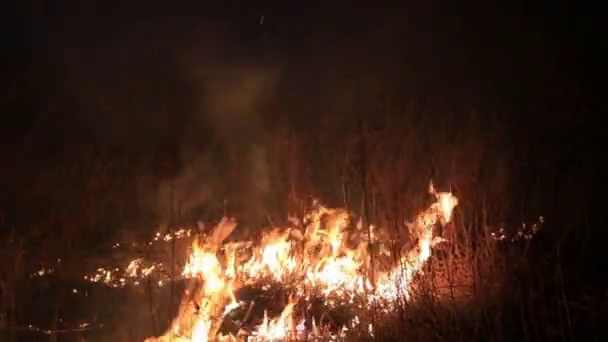fire: (164, 217, 427, 339), (406, 187, 458, 232), (257, 304, 295, 342), (128, 255, 149, 278)
